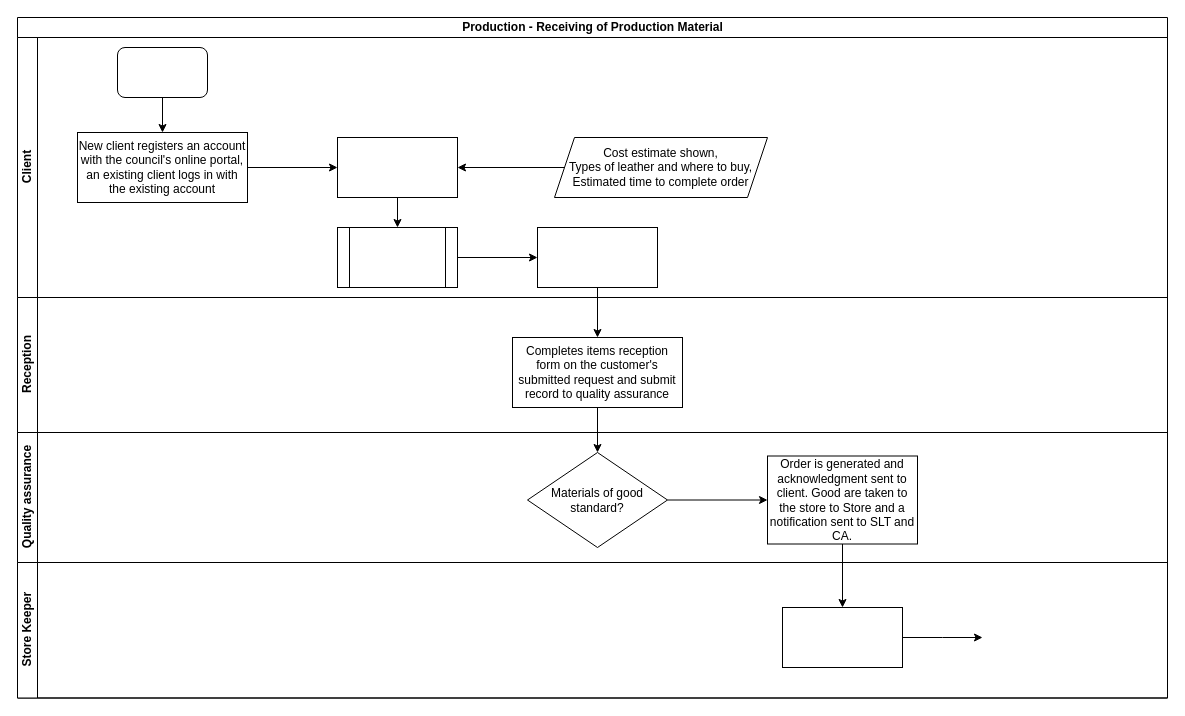
Some shapes in this 1185 by 716 pixel diagram are drawn without their labels. Here are the shapes that lost their labels. From the top down, the centre of each, then its label:
At point 162,72: "Start".
At point 397,167: "Fill in the material and order details form and submits".
At point 397,257: "Receive acknowledgement and request to submit materials".
At point 597,257: "Deliver materials to production centre".
At point 842,637: "Validate received material against record in system and updates inventory".
